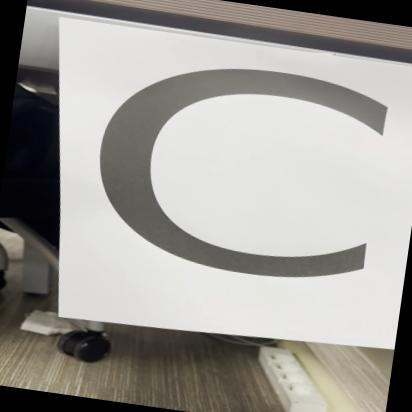seat: (16, 12, 412, 356)
